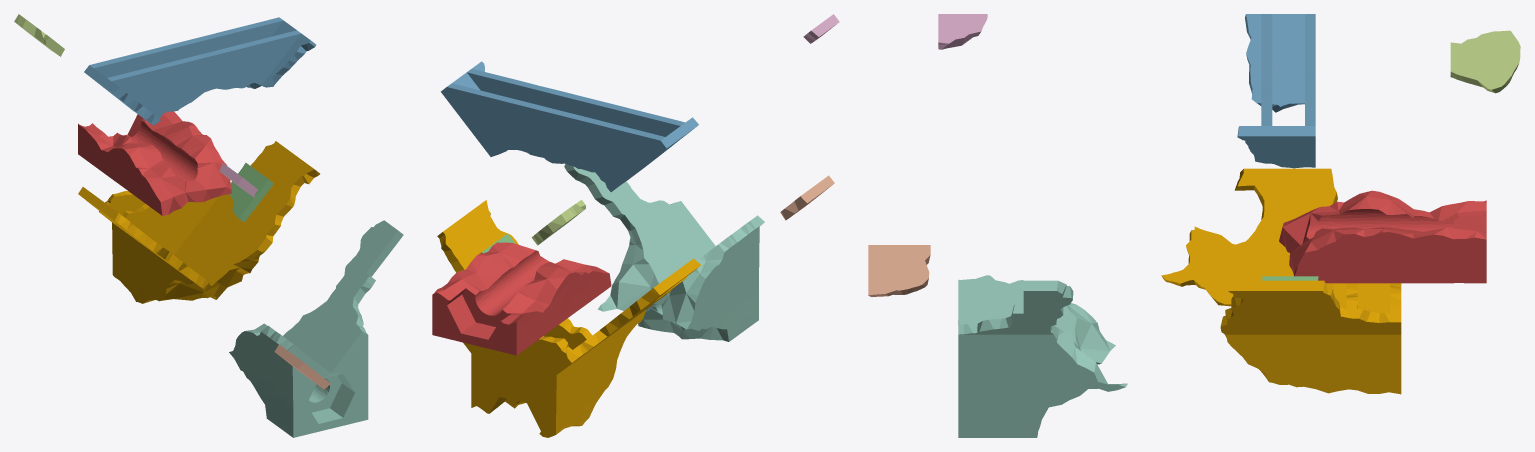
Rendered from mode_19_8pcs_transformed.glb.
3 renders of one model, left to right at view 1: azimuth 30°, elevation 25°; view 2: azimuth 150°, elevation 25°; view 3: azimuth 270°, elevation 25°, orthographic. The views are drawn at different scales.
Visible parts, largest first — view 1: piece_0.obj, piece_4.obj, piece_2.obj, piece_1.obj, piece_3.obj, piece_7.obj, piece_5.obj, piece_6.obj; view 2: piece_4.obj, piece_2.obj, piece_0.obj, piece_1.obj, piece_5.obj, piece_7.obj, piece_6.obj; view 3: piece_0.obj, piece_4.obj, piece_1.obj, piece_2.obj, piece_5.obj, piece_7.obj, piece_6.obj.
Boxes of the visible parts, x1,y1,x2,y2 form: piece_0.obj: [78, 141, 319, 303]; piece_4.obj: [229, 220, 403, 437]; piece_2.obj: [84, 17, 316, 125]; piece_1.obj: [78, 111, 231, 215]; piece_3.obj: [229, 163, 273, 221]; piece_7.obj: [274, 344, 330, 389]; piece_5.obj: [14, 14, 64, 56]; piece_6.obj: [219, 163, 257, 197]; piece_4.obj: [564, 164, 764, 341]; piece_2.obj: [441, 61, 698, 191]; piece_0.obj: [437, 200, 700, 437]; piece_1.obj: [432, 242, 611, 355]; piece_5.obj: [531, 199, 585, 245]; piece_7.obj: [780, 175, 834, 220]; piece_6.obj: [803, 14, 839, 43]; piece_0.obj: [1161, 168, 1401, 394]; piece_4.obj: [958, 275, 1127, 437]; piece_1.obj: [1279, 190, 1486, 283]; piece_2.obj: [1237, 14, 1315, 168]; piece_5.obj: [1450, 30, 1520, 93]; piece_7.obj: [868, 245, 930, 296]; piece_6.obj: [938, 14, 987, 49].
Bounding box in the file's own units: 1 × 1.34 × 2.29.
